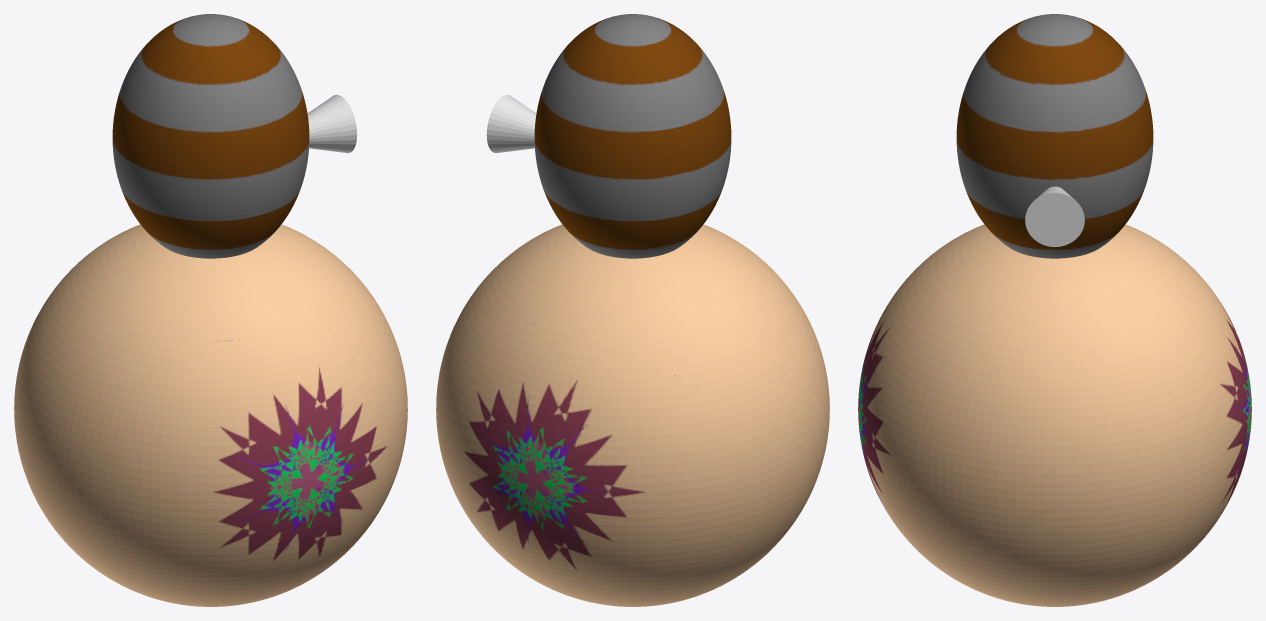
Rendered from BOD0_BMC0_BCC12_BPT0_FRC12_HEA2_HMC0_HCC3_HPT1_ELT0_ERT3_ELL0_ERL1_AP0_AAL0_AAR1_BEK0.fbx.
The picture shows the model from 3 angles, left to right: view 1: azimuth 30°, elevation 25°; view 2: azimuth 150°, elevation 25°; view 3: azimuth 270°, elevation 25°; orthographic projection.
Parts seen in each view (by area): view 1: Body, Ear; view 2: Body, Ear; view 3: Body, Ear.
Part boxes in pixels (x1,y1,x2,y2): Body: (14,14,407,606); Ear: (307,94,357,152); Body: (436,14,829,606); Ear: (486,94,536,152); Body: (858,14,1251,606); Ear: (1025,186,1084,246).
Bounding box in the file's own units: 49.36 × 78.65 × 49.36.
Materials: 1 (1 with a texture image).
